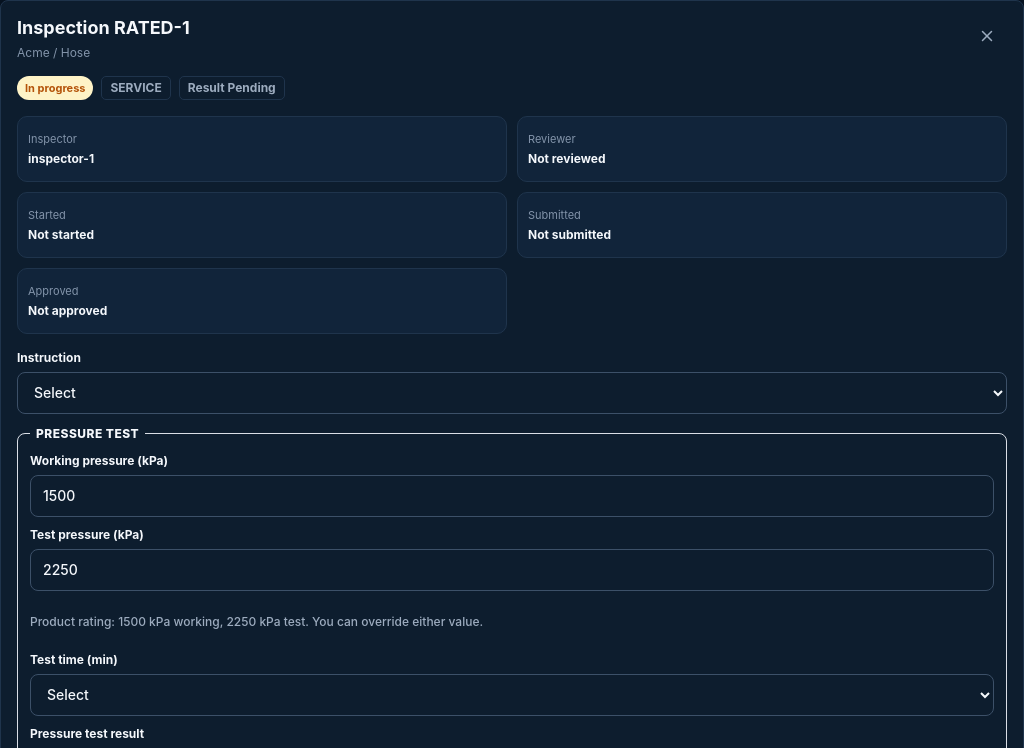
it: recording an inspection once it is started (staff) › lets the pressures be overridden and says so
The image size is (1024, 748).
Replace the text in the field named "Test pressure kPa" with "2400". click: {"x": 512, "y": 570}
box: [30, 549, 994, 591]
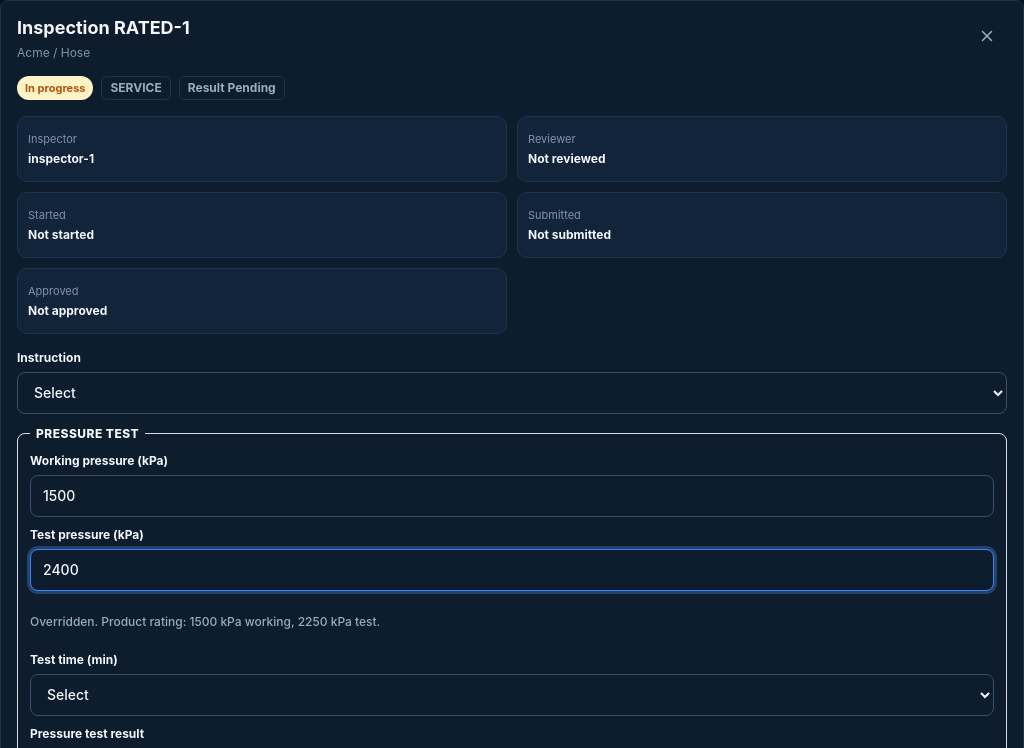
Now the text "Overridden. Product rating: 1500 kPa working, 2250 kPa test." is shown, box [30, 614, 380, 629]
